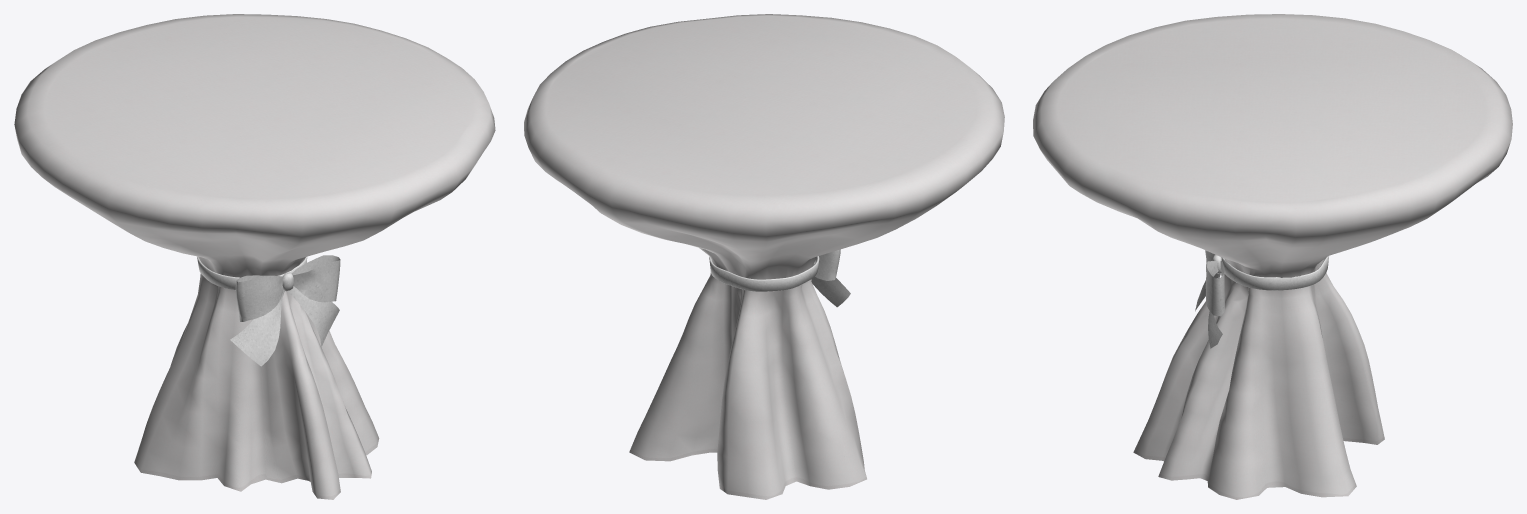
The model's file is EventTable04Cloth01.FBX.
3 views of the same model, side by side, from view 1: azimuth 30°, elevation 25°; view 2: azimuth 150°, elevation 25°; view 3: azimuth 270°, elevation 25° (orthographic).
Parts seen in each view (by area): view 1: EventTable04Cloth01; view 2: EventTable04Cloth01; view 3: EventTable04Cloth01.
Part boxes in pixels (left/top/right/bottom): EventTable04Cloth01: left=14, top=14, right=495, bottom=499; EventTable04Cloth01: left=524, top=14, right=1004, bottom=499; EventTable04Cloth01: left=1033, top=14, right=1512, bottom=499.
Size of what is drawn, in the model's own units: 1.14 by 0.8984 by 1.14.
